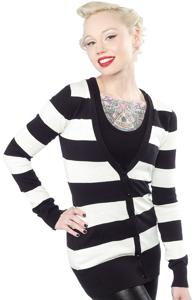C_cardigan sweater: (5, 74, 195, 282)
